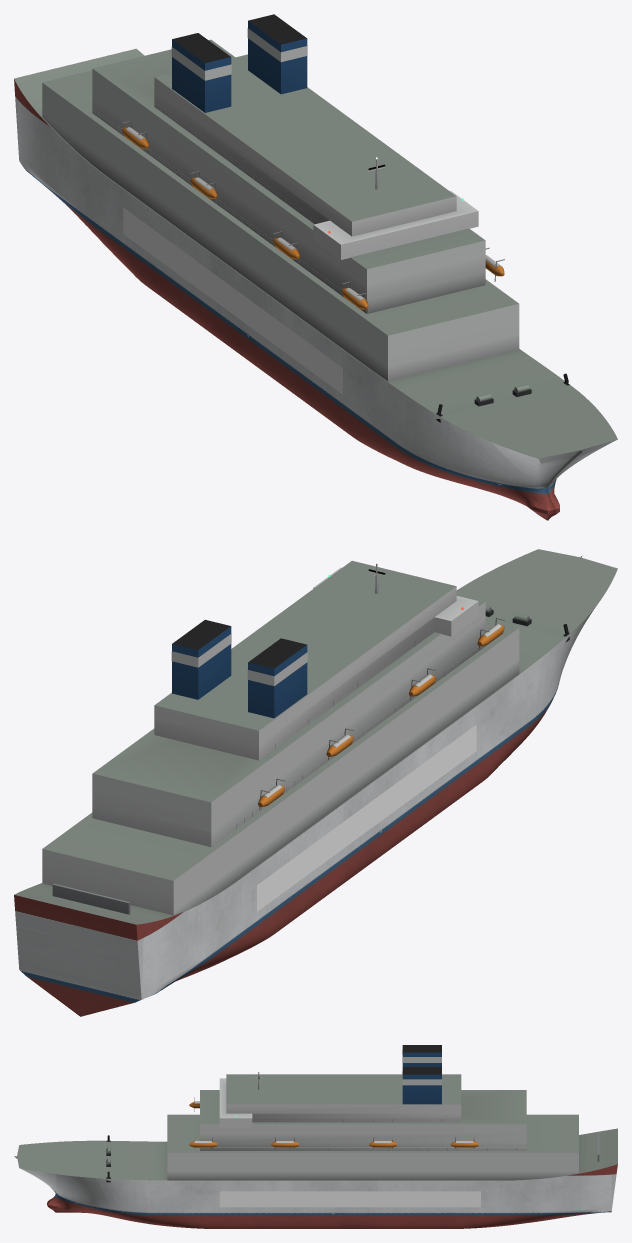
File: faehre.glb
3 views of the same model, one above another, from view 1: azimuth 30°, elevation 25°; view 2: azimuth 150°, elevation 25°; view 3: azimuth 270°, elevation 25° (orthographic). The views are drawn at different scales.
Parts seen in each view (by area): view 1: trim, rumpf, name-1, rund; view 2: trim, rumpf, name-1, rund; view 3: trim, rumpf, name1, rund.
Boxes of the visible parts, left/top/right/bottom form: trim: left=14, top=14, right=617, bottom=458; rumpf: left=14, top=79, right=617, bottom=520; name-1: left=123, top=207, right=342, bottom=394; rund: left=93, top=101, right=568, bottom=414; trim: left=14, top=549, right=617, bottom=924; rumpf: left=14, top=555, right=595, bottom=1016; name-1: left=257, top=724, right=476, bottom=911; rund: left=211, top=563, right=568, bottom=841; trim: left=17, top=1045, right=617, bottom=1182; rumpf: left=14, top=1140, right=617, bottom=1228; name1: left=219, top=1191, right=480, bottom=1207; rund: left=106, top=1071, right=526, bottom=1177.
Bounding box in the file's own units: 31 × 51.49 × 185.
7 materials, 1 textured.
